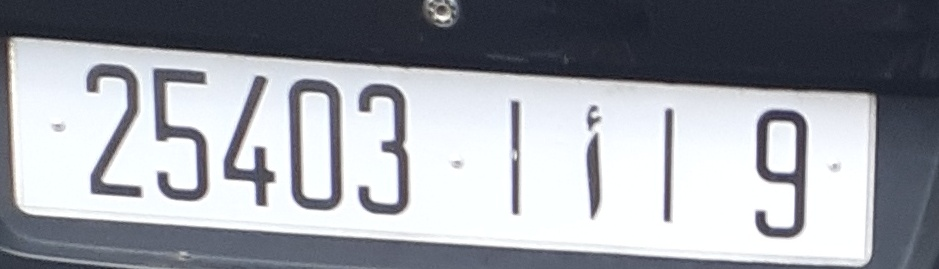0: (284, 75, 346, 216)
2: (69, 54, 148, 207)
3: (346, 79, 414, 223)
4: (216, 67, 281, 212)
5: (150, 57, 215, 205)
9: (740, 104, 814, 247)
a: (555, 96, 636, 230)
